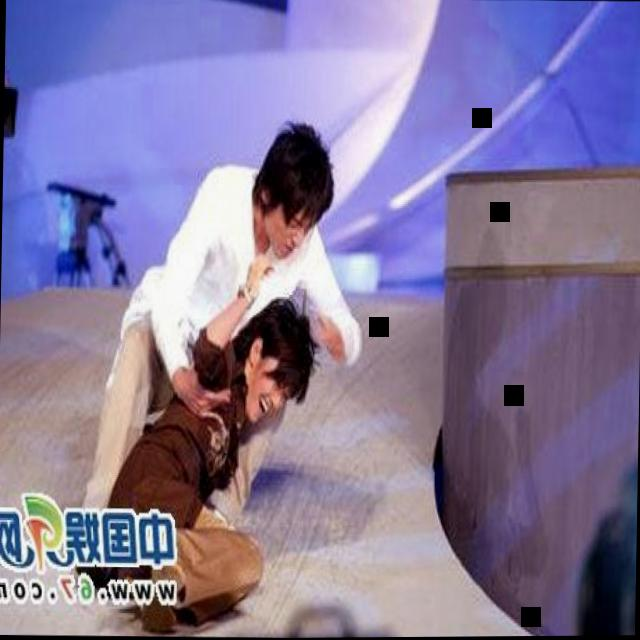Fall-Detected: (77, 272, 330, 634)
